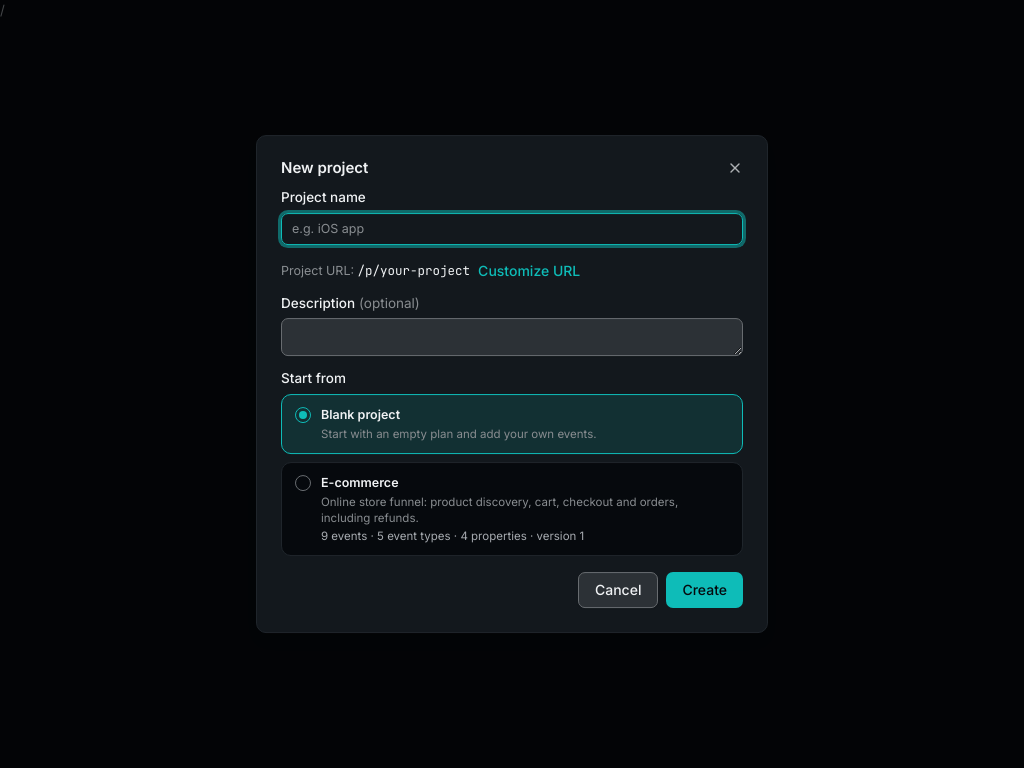
Test: CreateProjectDialog › goes back to a blank create when the template is deselected
The width and height of the screenshot is (1024, 768).
Click the radio button labelled "E-commerce" at (512, 509), box [281, 462, 743, 556]
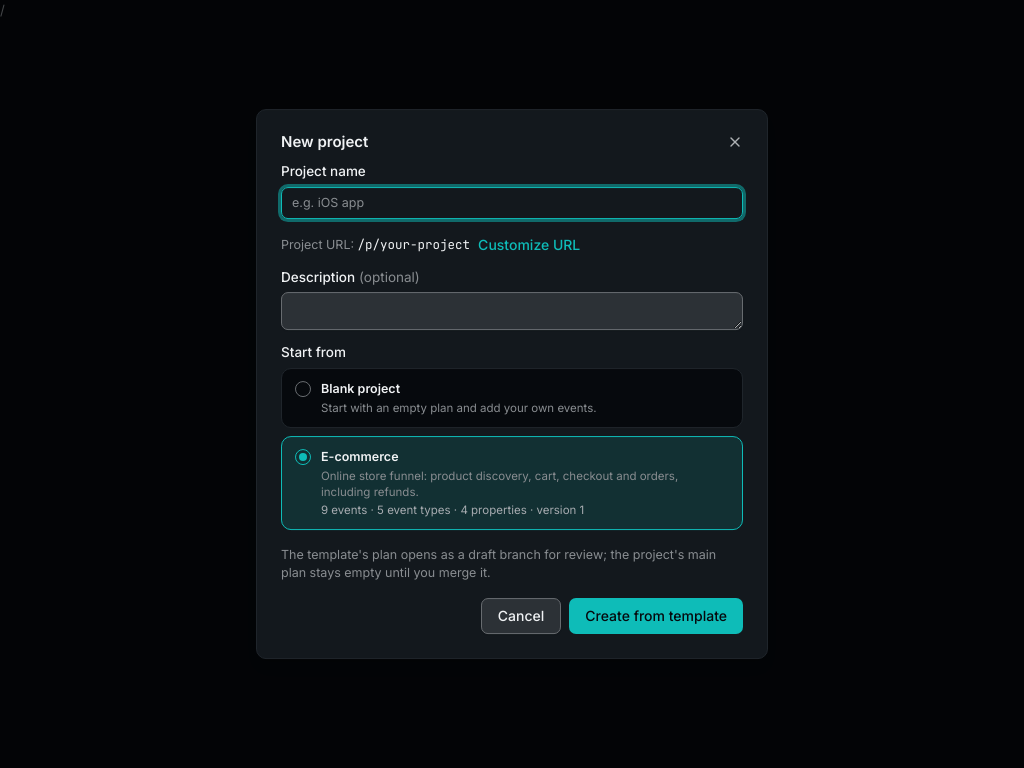
Now the button "Create from template" is shown, box [569, 598, 743, 634]
Click the radio button labelled "Blank project" at (512, 398), box [281, 368, 743, 428]
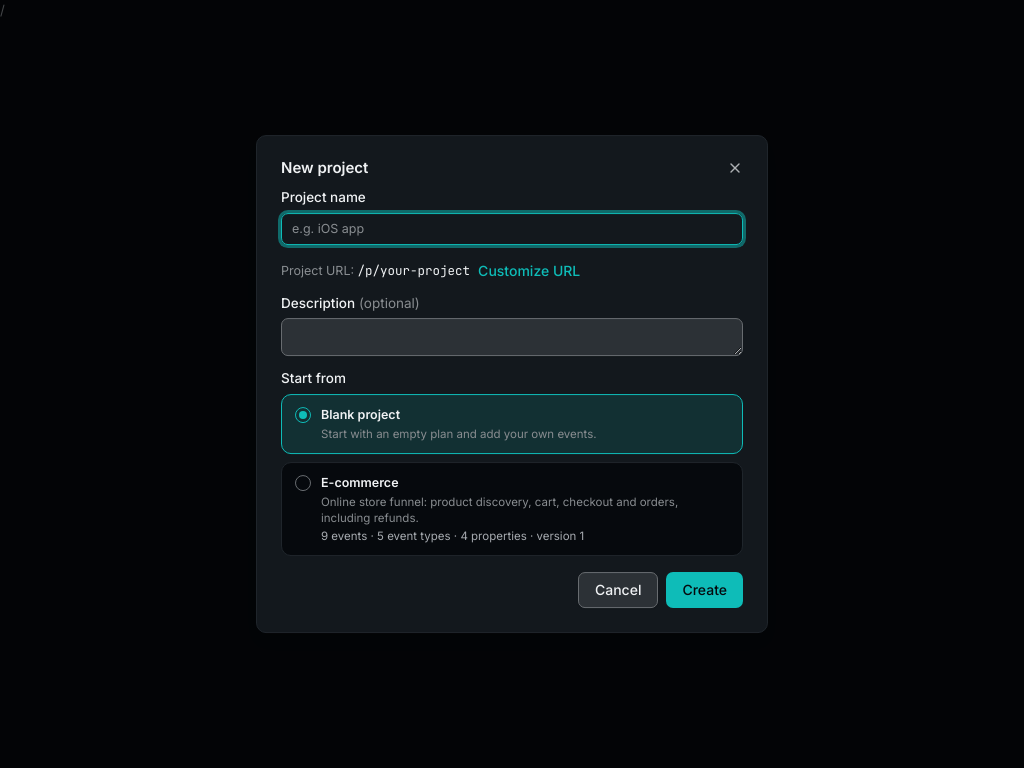
Expected: the button "Create" is shown, [666, 572, 743, 608]
Now the text "The template's plan opens as a draft branch for review; the project's main plan stays empty until you merge it." is gone
